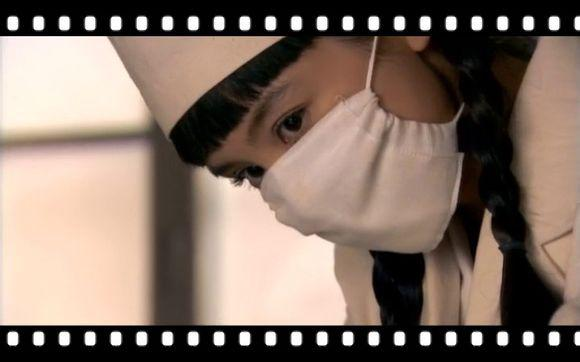OK: (213, 42, 467, 253)
